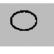no answer: (8, 7, 39, 32)
